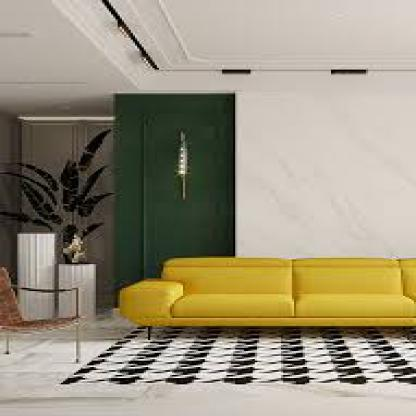sofa: (124, 260, 414, 330)
